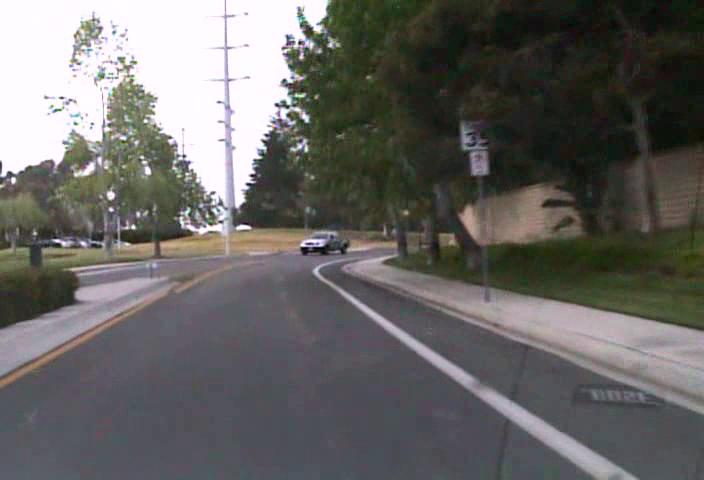speedLimit35: (459, 109, 495, 151)
